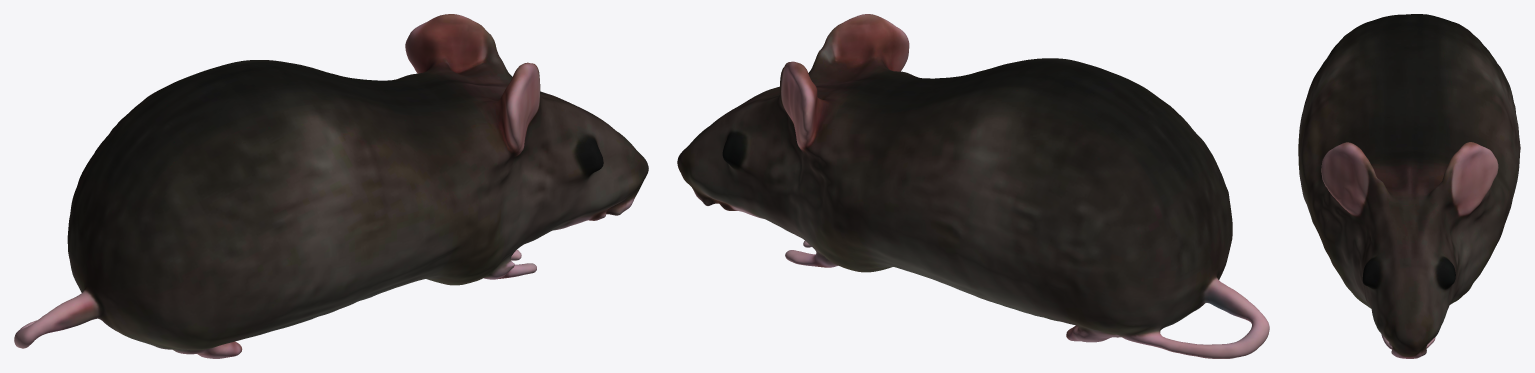
The model's file is a9e2e95b91e1_lying_field_mouse__.fbx.
3 views of the same model, side by side, from view 1: azimuth 30°, elevation 25°; view 2: azimuth 150°, elevation 25°; view 3: azimuth 270°, elevation 25° (orthographic). The views are drawn at different scales.
Parts seen in each view (by area): view 1: high_poly; view 2: high_poly; view 3: high_poly.
Part boxes in pixels (box(x1,y1,x2,y2)): high_poly: box(14, 14, 648, 358); high_poly: box(677, 14, 1269, 358); high_poly: box(1298, 14, 1520, 358).
Bounding box in the file's own units: 100 × 39.77 × 37.78.
